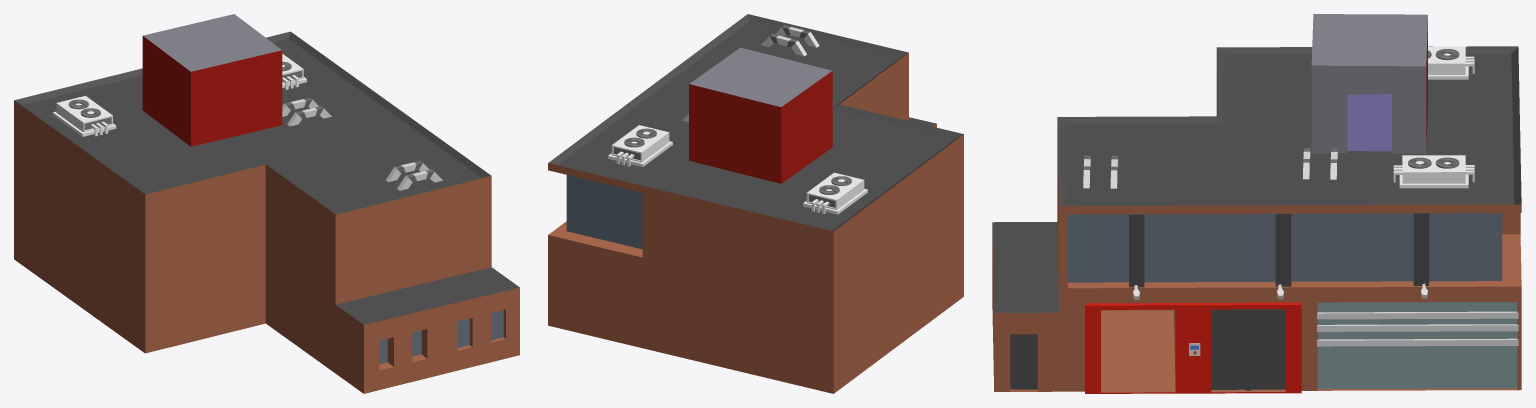
File: Fire_bridge_tran.glb
The picture shows the model from 3 angles, left to right: view 1: azimuth 30°, elevation 25°; view 2: azimuth 150°, elevation 25°; view 3: azimuth 270°, elevation 25°; orthographic projection. The views are drawn at different scales.
Parts seen in each view (by area): view 1: Main_Body, Cube.6174, Cube.14605, Cube.14606, Cube.6900; view 2: Main_Body, Cube.6174, Cube.14606, Cube.14605, Cube.6901, Cube.6900; view 3: Main_Body, Cube.6174, orbington fire station london.001, Cube.14606, Cube.630, Cube.629, Cube.631, Cube.14605, Cube.6178, Cube.6179, Cube.6177.
Boxes of the visible parts, x1,y1,x2,y2 form: Main_Body: (14,31,519,393); Cube.6174: (142,14,282,146); Cube.14605: (52,96,116,136); Cube.14606: (282,54,306,89); Cube.6900: (397,169,442,190); Main_Body: (548,14,963,393); Cube.6174: (689,47,832,183); Cube.14606: (608,125,672,166); Cube.14605: (803,172,867,214); Cube.6901: (761,34,806,56); Cube.6900: (775,25,819,47); Main_Body: (992,46,1521,393); Cube.6174: (1311,14,1427,153); orbington fire station london.001: (1211,309,1285,390); Cube.14606: (1393,155,1474,188); Cube.630: (1317,324,1518,331); Cube.629: (1317,311,1518,319); Cube.631: (1317,338,1518,346); Cube.14605: (1428,46,1474,79); Cube.6178: (1275,213,1291,286); Cube.6179: (1413,213,1429,285); Cube.6177: (1129,214,1144,287).
Size of the model in its own units: 0.3365 by 0.2446 by 0.437.
